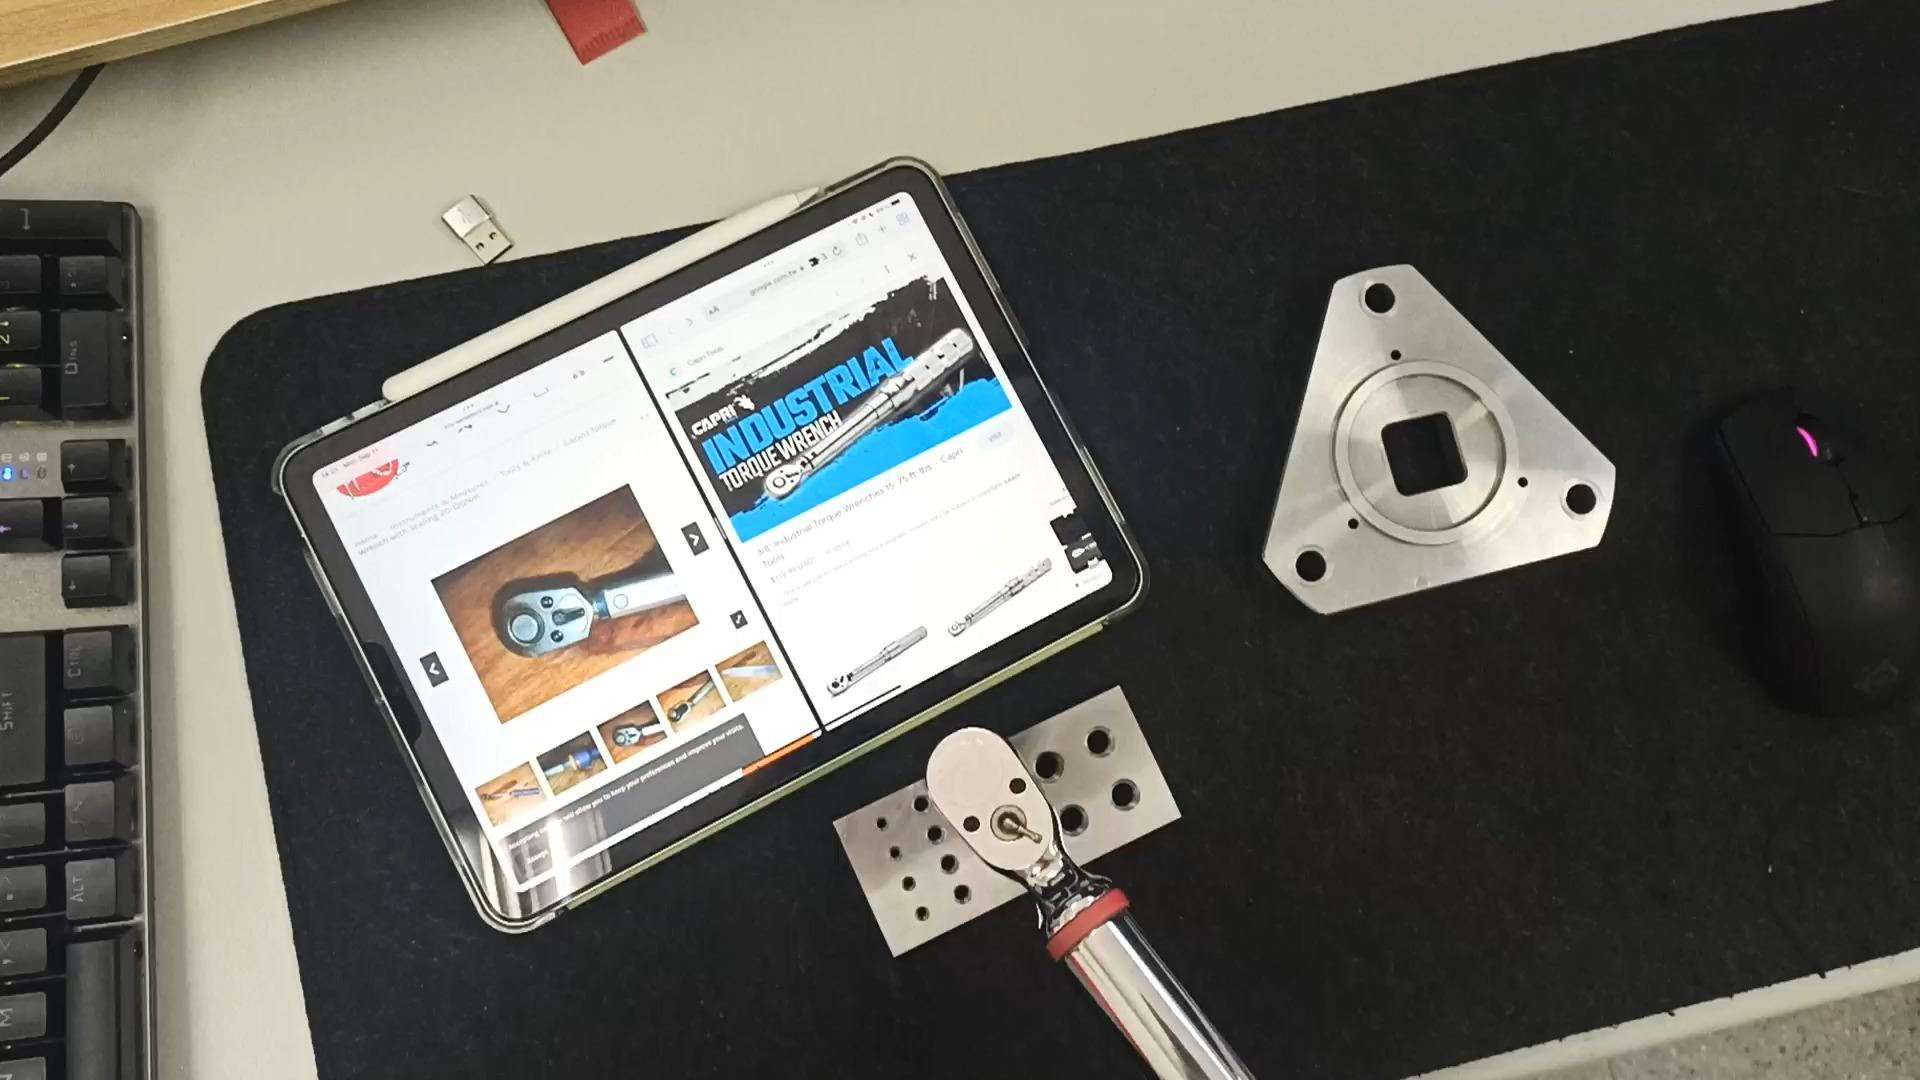Tool: (928, 721, 1089, 917), (492, 573, 602, 661), (760, 455, 815, 509)
hole: (1539, 474, 1615, 526), (1085, 775, 1151, 819), (1274, 544, 1336, 587), (1045, 801, 1106, 844), (1061, 723, 1126, 763), (1348, 281, 1406, 322), (1032, 748, 1069, 787), (924, 855, 963, 877), (909, 822, 948, 843), (935, 884, 971, 904), (886, 874, 921, 894), (873, 846, 907, 865), (862, 813, 896, 832), (909, 794, 937, 816), (900, 908, 933, 926)
